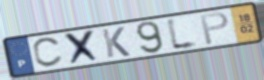9: (134, 20, 166, 55)
C: (31, 35, 65, 69)
K: (100, 26, 133, 59)
L: (164, 15, 202, 53)
P: (199, 11, 231, 47)
X: (62, 28, 102, 67)
